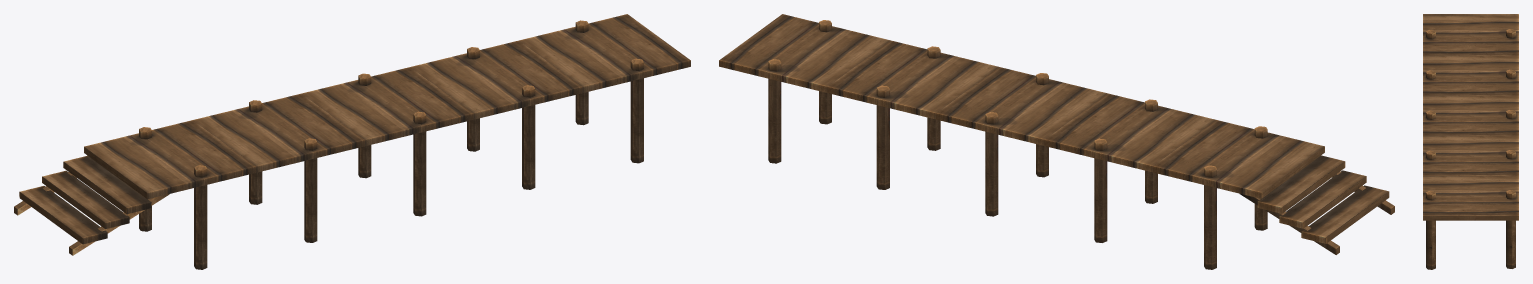
The model's file is p2_pier.fbx.
The picture shows the model from 3 angles, left to right: view 1: azimuth 30°, elevation 25°; view 2: azimuth 150°, elevation 25°; view 3: azimuth 270°, elevation 25°; orthographic projection. The views are drawn at different scales.
Visible parts, largest first — view 1: U3DMesh; view 2: U3DMesh; view 3: U3DMesh.
Boxes of the visible parts, x1,y1,x2,y2 form: U3DMesh: (14, 14, 690, 269); U3DMesh: (719, 14, 1394, 269); U3DMesh: (1423, 14, 1518, 269).
Bounding box in the file's own units: 1474 × 227 × 263.
